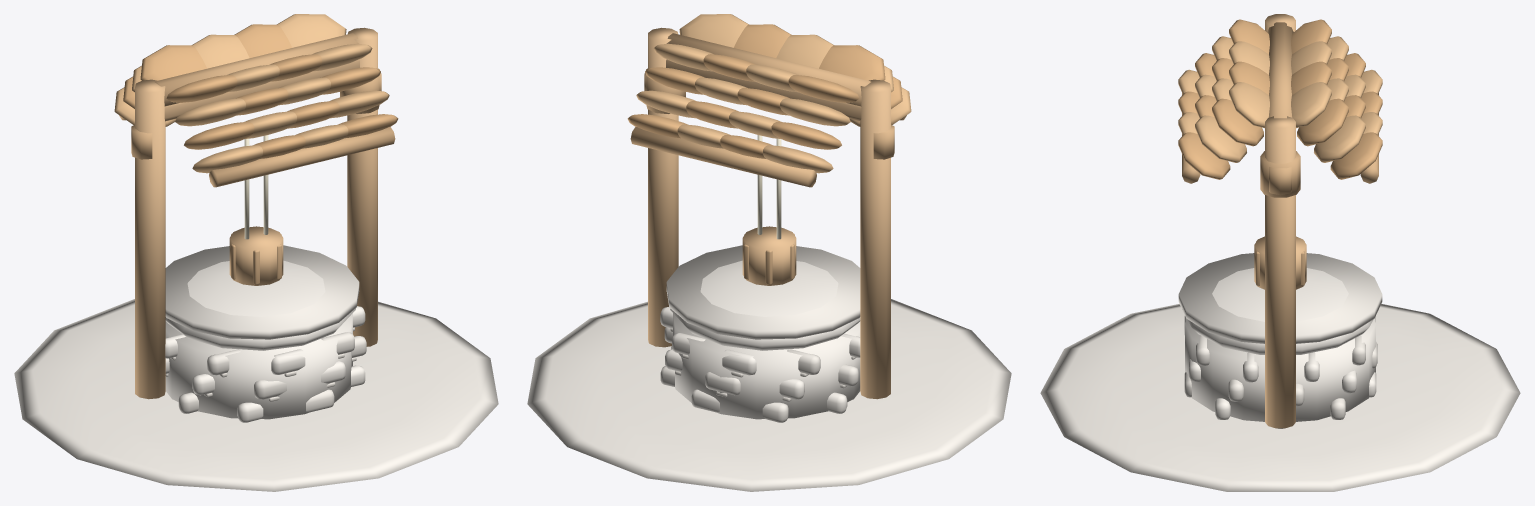
The model's file is cozy_well_house_A.glb.
3 views of the same model, side by side, from view 1: azimuth 30°, elevation 25°; view 2: azimuth 150°, elevation 25°; view 3: azimuth 270°, elevation 25° (orthographic).
Parts seen in each view (by area): view 1: Pad, PostL, WellBody, CopeLip, Coping, PostR, EaveB, Bucket, Ridge, ShF3_0, ShF3_3, Cross (+21 smaller); view 2: Pad, PostL, WellBody, CopeLip, Coping, PostR, EaveF, Bucket, Ridge, ShB3_0, ShB3_3, Cross (+21 smaller); view 3: Pad, PostR, WellBody, CopeLip, Coping, Ridge, ShB0_3, ShF0_3, ShB1_3, ShB2_3, ShF1_3, ShF2_3 (+11 smaller).
Part boxes in pixels (<box>): Pad: <box>14,299,498,491</box>; PostL: <box>135,79,165,399</box>; WellBody: <box>165,313,352,419</box>; CopeLip: <box>165,245,359,339</box>; Coping: <box>165,260,355,350</box>; PostR: <box>347,27,377,346</box>; EaveB: <box>209,127,395,187</box>; Bucket: <box>229,226,283,285</box>; Ridge: <box>155,33,359,106</box>; ShF3_0: <box>140,45,206,80</box>; ShF3_3: <box>277,14,346,47</box>; Cross: <box>164,59,359,121</box>; Pad: <box>527,299,1011,491</box>; PostL: <box>860,79,890,399</box>; WellBody: <box>673,313,860,419</box>; CopeLip: <box>666,245,860,339</box>; Coping: <box>670,260,860,350</box>; PostR: <box>648,27,678,347</box>; EaveF: <box>630,127,816,187</box>; Bucket: <box>742,226,796,285</box>; Ridge: <box>666,33,870,106</box>; ShB3_0: <box>819,45,885,80</box>; ShB3_3: <box>679,14,748,47</box>; Cross: <box>666,59,861,121</box>; Pad: <box>1040,304,1520,491</box>; PostR: <box>1265,116,1295,428</box>; WellBody: <box>1185,319,1375,421</box>; CopeLip: <box>1178,253,1382,343</box>; Coping: <box>1182,268,1378,354</box>; Ridge: <box>1267,22,1293,118</box>; ShB0_3: <box>1178,132,1230,179</box>; ShF0_3: <box>1330,132,1382,179</box>; ShB1_3: <box>1195,115,1246,162</box>; ShB2_3: <box>1212,98,1263,146</box>; ShF1_3: <box>1314,115,1365,162</box>; ShF2_3: <box>1297,98,1348,146</box>.
Size of the model in its own units: 3.04 by 2.48 by 3.12.
